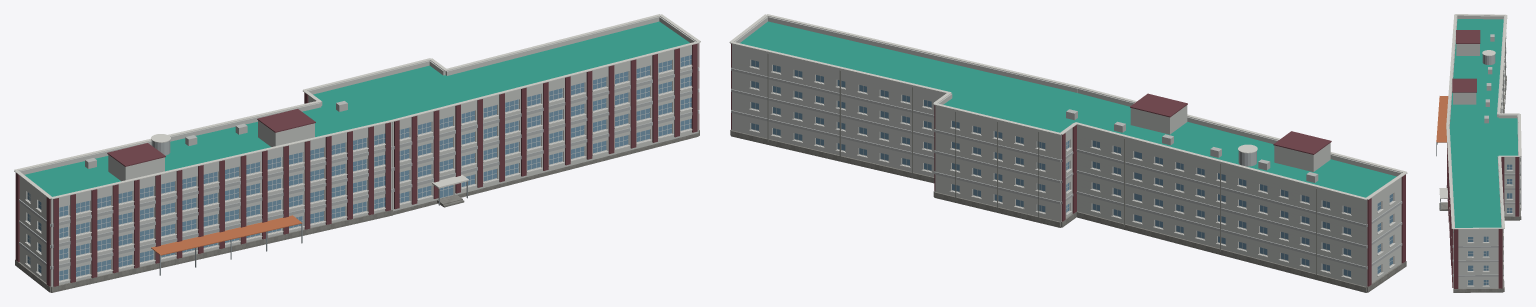
The picture shows the model from 3 angles, left to right: view 1: azimuth 30°, elevation 25°; view 2: azimuth 150°, elevation 25°; view 3: azimuth 270°, elevation 25°; orthographic projection. The views are drawn at different scales.
Parts seen in each view (by area): view 1: main__wall, main__maroon, main__roofgreen, main__glass, main__band, main__frame, main__cap, main__stone, main__white, main__awning, main__unit; view 2: main__wall, main__roofgreen, main__band, main__sideglass, main__stone, main__cap, main__maroon, main__frame, main__white, main__pipe, main__unit; view 3: main__roofgreen, main__wall, main__maroon, main__cap, main__band, main__awning, main__stone, main__sideglass, main__white, main__pipe, main__frame, main__unit (+1 smaller).
Boxes of the visible parts, bbox=[...] form: main__wall: bbox=[19, 16, 698, 286]; main__maroon: bbox=[15, 43, 699, 286]; main__roofgreen: bbox=[24, 21, 689, 196]; main__glass: bbox=[59, 55, 691, 280]; main__band: bbox=[19, 67, 699, 269]; main__frame: bbox=[27, 56, 691, 280]; main__cap: bbox=[14, 14, 700, 199]; main__stone: bbox=[15, 130, 699, 292]; main__white: bbox=[25, 65, 692, 282]; main__awning: bbox=[151, 215, 302, 255]; main__unit: bbox=[85, 101, 347, 168]; main__wall: bbox=[732, 16, 1402, 286]; main__roofgreen: bbox=[740, 21, 1396, 197]; main__band: bbox=[731, 67, 1402, 269]; main__sideglass: bbox=[751, 60, 1392, 276]; main__stone: bbox=[730, 129, 1406, 292]; main__cap: bbox=[729, 14, 1407, 199]; main__maroon: bbox=[731, 43, 1405, 286]; main__frame: bbox=[751, 60, 1393, 277]; main__white: bbox=[749, 66, 1395, 279]; main__pipe: bbox=[767, 53, 1316, 276]; main__unit: bbox=[1066, 109, 1318, 182]; main__roofgreen: bbox=[1449, 19, 1518, 232]; main__wall: bbox=[1448, 15, 1519, 288]; main__maroon: bbox=[1447, 30, 1519, 288]; main__cap: bbox=[1439, 14, 1521, 229]; main__band: bbox=[1449, 33, 1520, 276]; main__awning: bbox=[1436, 96, 1448, 142]; main__stone: bbox=[1446, 75, 1521, 292]; main__sideglass: bbox=[1468, 164, 1512, 285]; main__white: bbox=[1440, 34, 1520, 286]; main__pipe: bbox=[1500, 38, 1521, 268]; main__frame: bbox=[1467, 165, 1512, 285]; main__unit: bbox=[1484, 34, 1494, 123].
Bounding box in the file's own units: 112 × 17.92 × 18.76.
15 materials, 5 textured.
